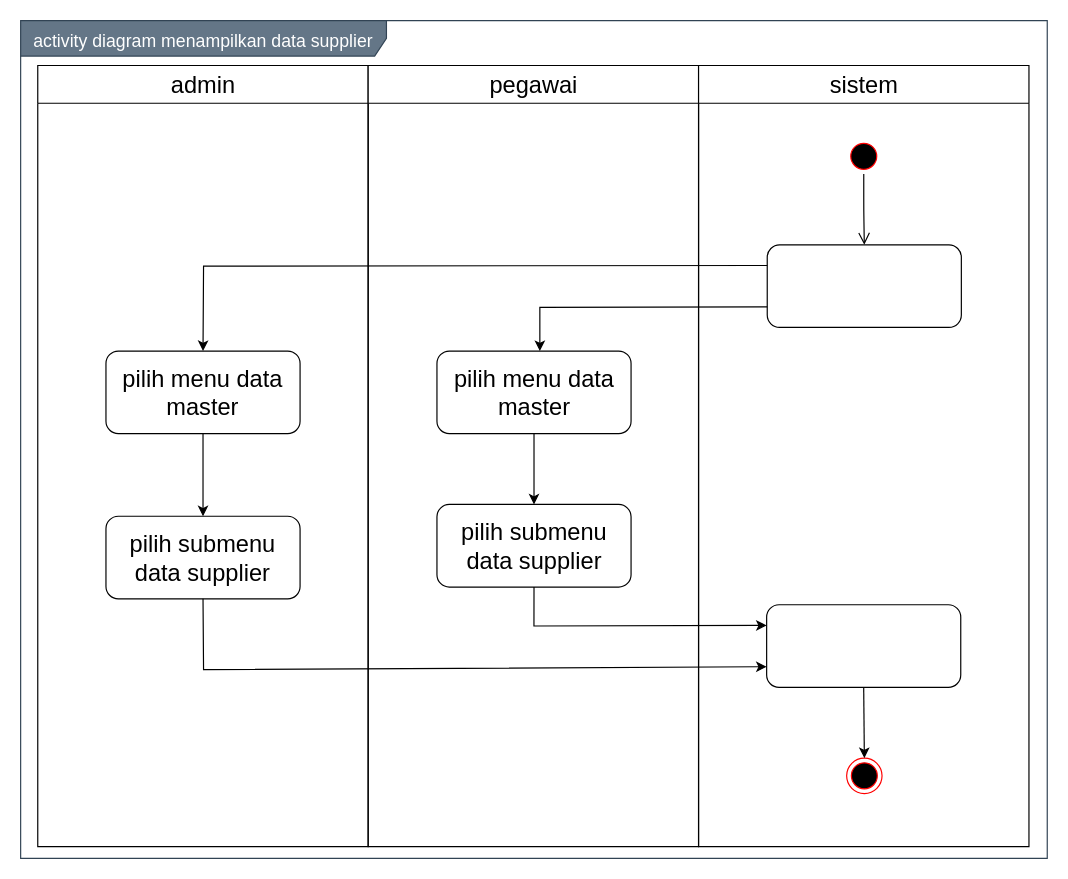
Some shapes in this 1068 by 879 pixel diagram are drawn without their labels. Here are the shapes that lost their labels. From the top down, the centre of each, then its label:
[863,285]: menampilkan dashboard sesuai rolenya
[863,645]: menampilkan data supplier
